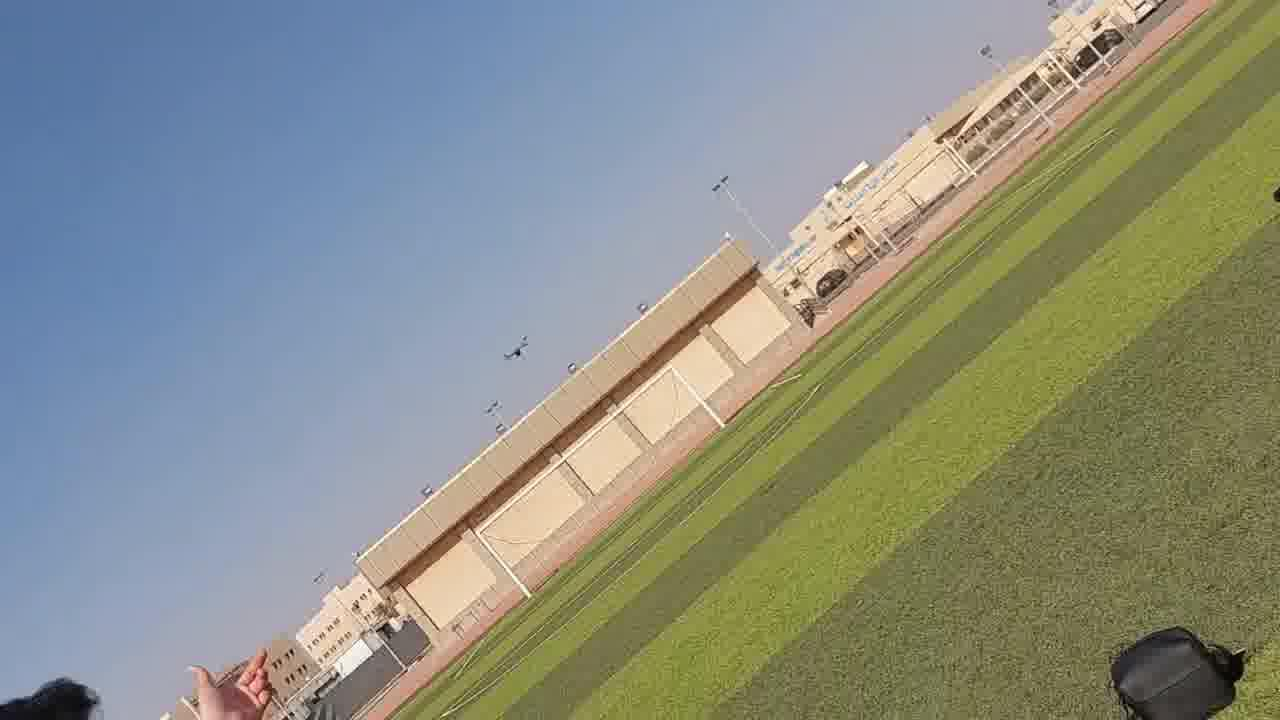drone: (497, 327, 536, 364)
